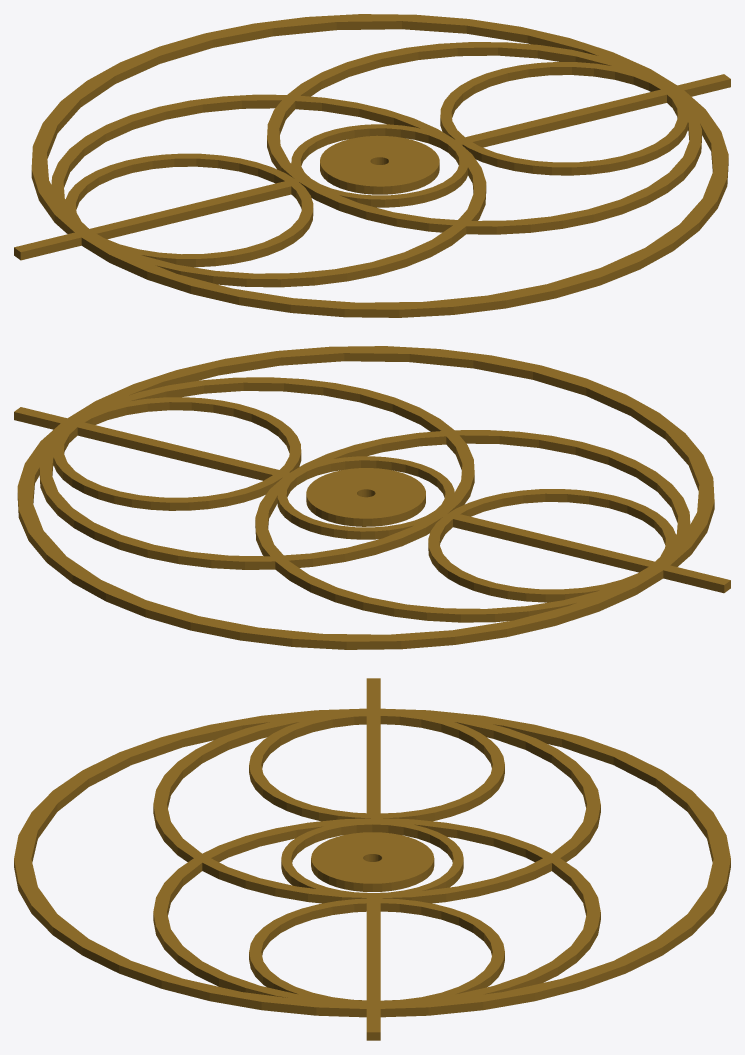
The model's file is SymbolToG-normal.glb.
3 views of the same model, one above another, from view 1: azimuth 30°, elevation 25°; view 2: azimuth 150°, elevation 25°; view 3: azimuth 270°, elevation 25° (orthographic). The views are drawn at different scales.
Parts seen in each view (by area): view 1: Grid.008; view 2: Grid.008; view 3: Grid.008.
Boxes of the visible parts, <box> form: Grid.008: <box>14,14,730,317</box>; Grid.008: <box>14,346,730,649</box>; Grid.008: <box>14,678,730,1040</box>.
Size of the model in its own units: 4.54 by 0.0543 by 3.89.
